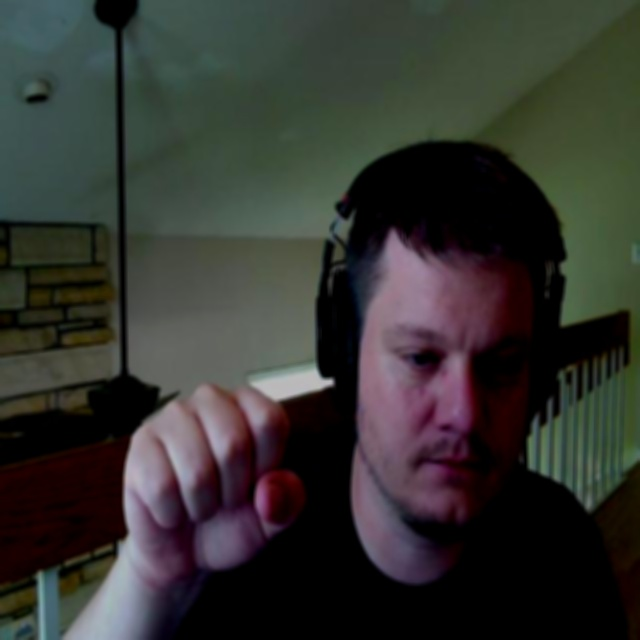Rock: (111, 378, 315, 574)
